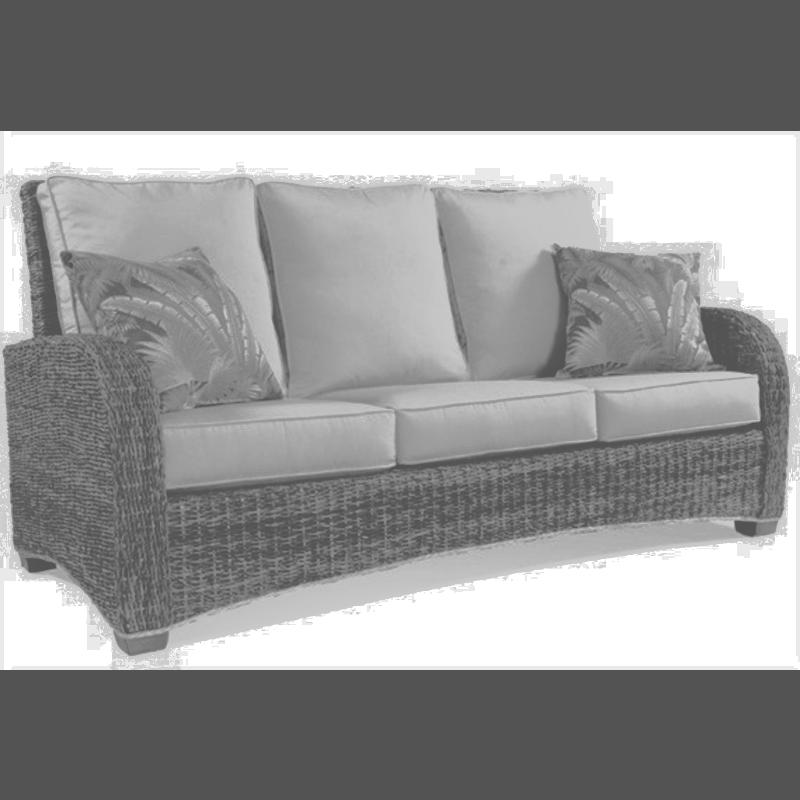pillow: (31, 176, 283, 392), (252, 181, 477, 399), (436, 184, 607, 372), (563, 248, 711, 364)
